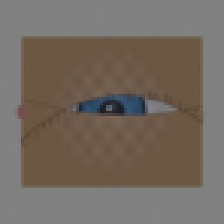pinguecula_lesion: (20, 94, 72, 135)
